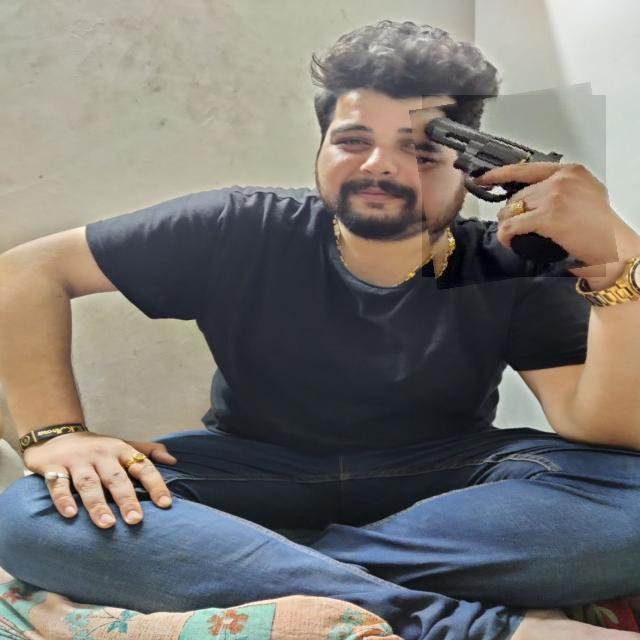handgun: (416, 89, 612, 284)
